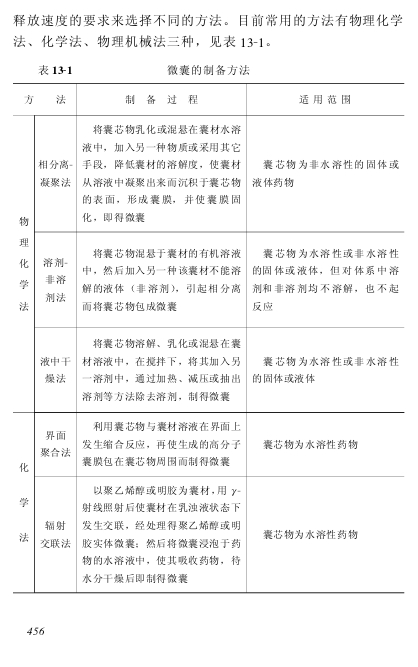table: (12, 82, 403, 593)
